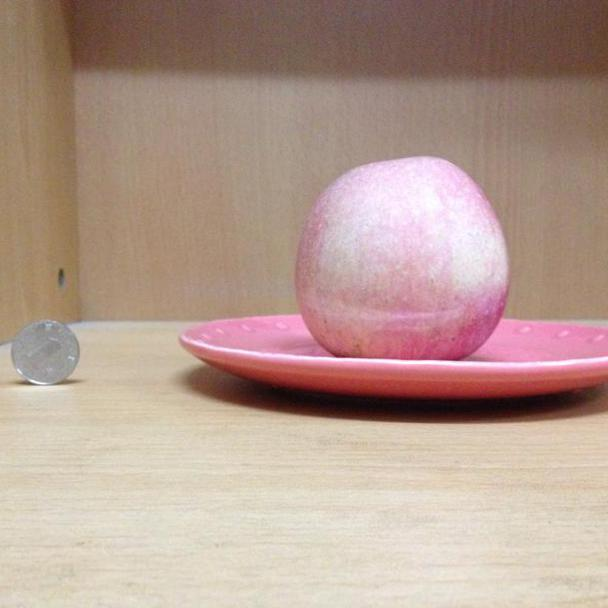apple: (292, 155, 511, 362)
